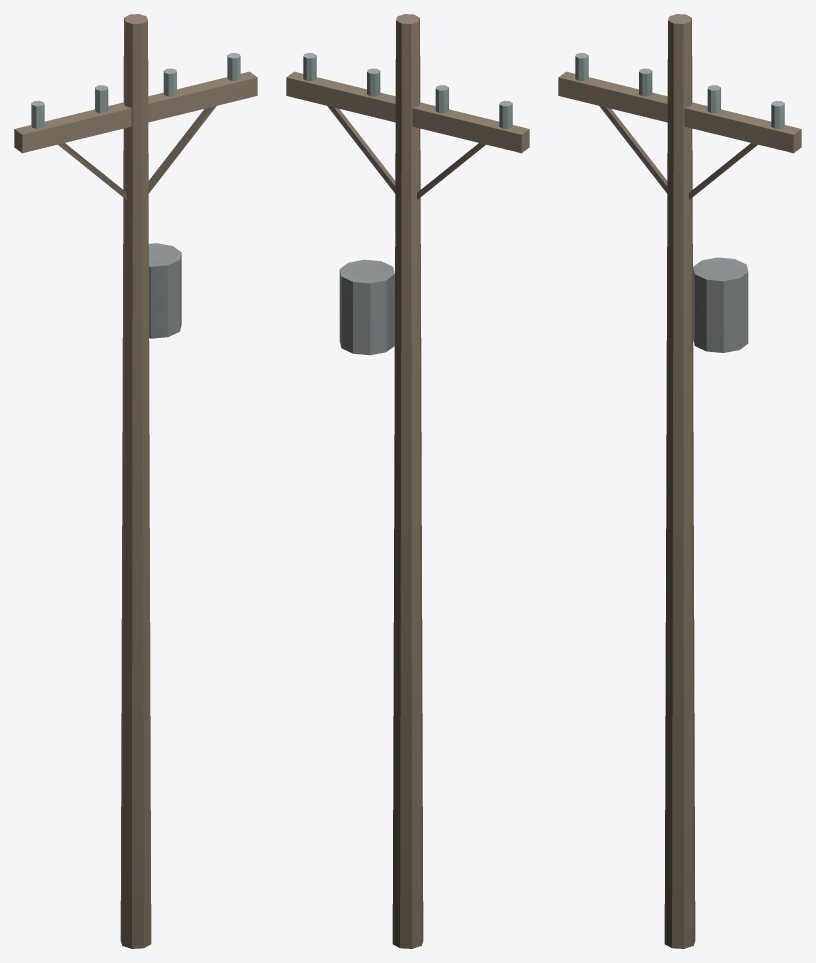
Rendered from mil_powerpole.glb.
3 renders of one model, left to right at view 1: azimuth 30°, elevation 25°; view 2: azimuth 150°, elevation 25°; view 3: azimuth 330°, elevation 25°, orthographic.
Visible parts, largest first — view 1: mil_powerpole; view 2: mil_powerpole; view 3: mil_powerpole.
Boxes of the visible parts, box(x1,y1,x2,y2) form: mil_powerpole: box(14, 14, 257, 948); mil_powerpole: box(286, 14, 529, 948); mil_powerpole: box(558, 14, 801, 948).
Bounding box in the file's own units: 2.4 × 9 × 0.59.
